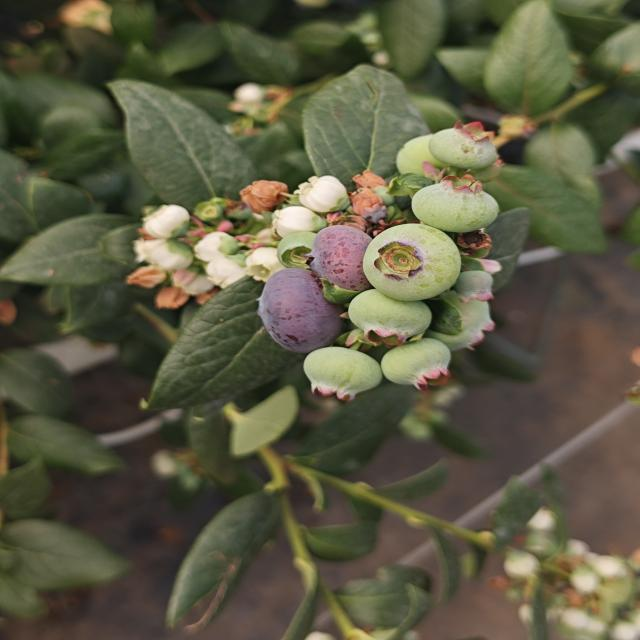ripe: (248, 259, 351, 349)
